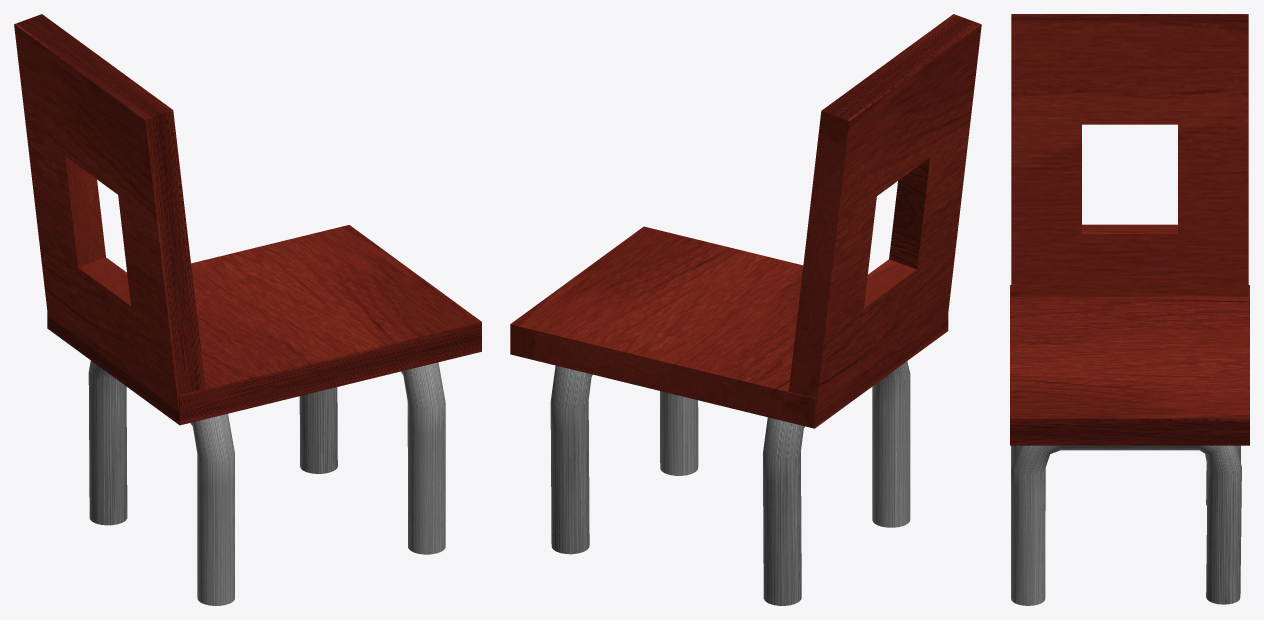
The model's file is Chair.fbx.
3 views of the same model, side by side, from view 1: azimuth 30°, elevation 25°; view 2: azimuth 150°, elevation 25°; view 3: azimuth 270°, elevation 25° (orthographic). The views are drawn at different scales.
Parts seen in each view (by area): view 1: pasted__pCube2; view 2: pasted__pCube2; view 3: pasted__pCube2.
Part boxes in pixels (<box>): pasted__pCube2: <box>14,14,481,605</box>; pasted__pCube2: <box>510,14,981,605</box>; pasted__pCube2: <box>1010,14,1249,605</box>.
Size of the model in its own units: 5.18 by 7.48 by 3.54.
Materials: 2 (2 with a texture image).
